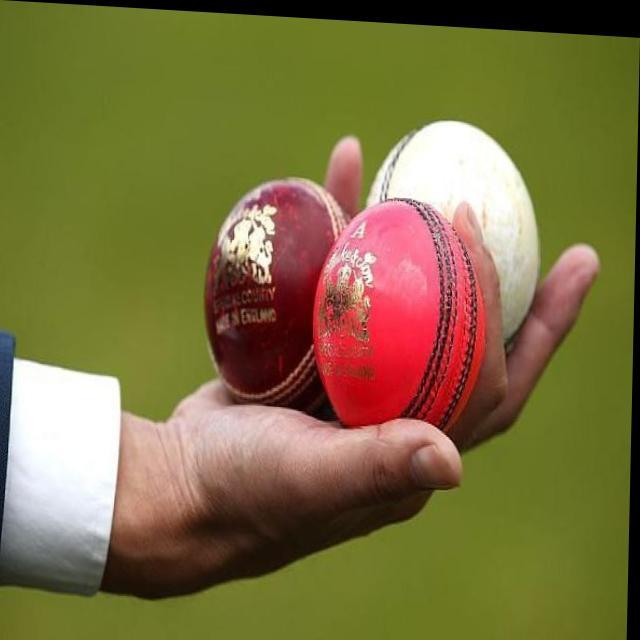cricket ball: (315, 193, 486, 427), (367, 116, 540, 334), (204, 175, 352, 409)
